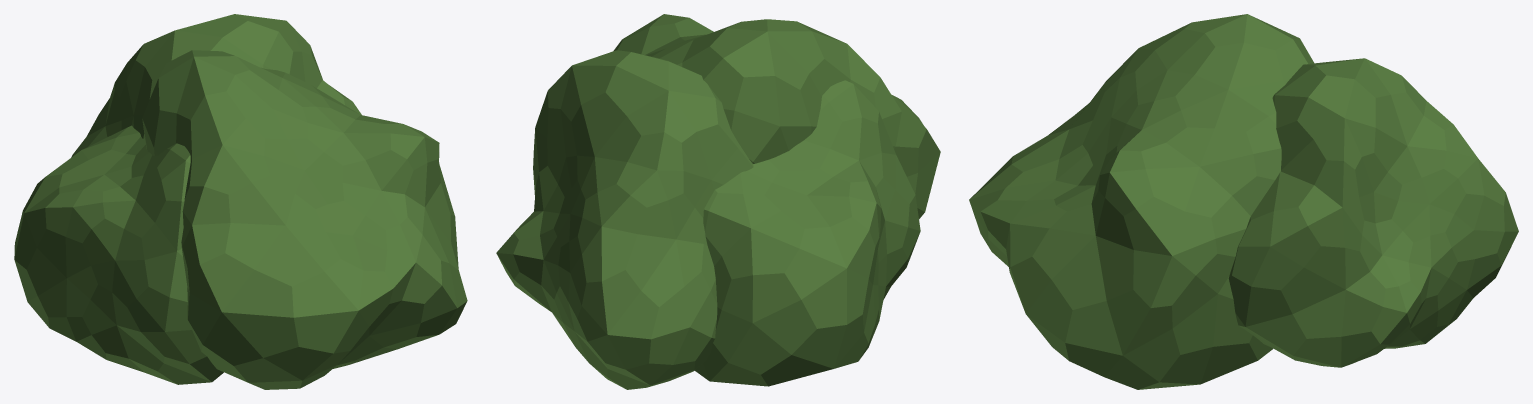
The model's file is bush6.fbx.
The picture shows the model from 3 angles, left to right: view 1: azimuth 30°, elevation 25°; view 2: azimuth 150°, elevation 25°; view 3: azimuth 270°, elevation 25°; orthographic projection. The views are drawn at different scales.
Parts seen in each view (by area): view 1: Icosphere.008, Icosphere.010, Icosphere.009; view 2: Icosphere.009, Icosphere.010, Icosphere.008; view 3: Icosphere.008, Icosphere.009.
Boxes of the visible parts, x1,y1,x2,y2 form: Icosphere.008: (142, 50, 467, 389); Icosphere.010: (14, 125, 223, 384); Icosphere.009: (71, 14, 361, 157); Icosphere.009: (496, 50, 753, 389); Icosphere.010: (695, 80, 920, 386); Icosphere.008: (613, 14, 940, 219); Icosphere.008: (969, 14, 1313, 389); Icosphere.009: (1228, 58, 1518, 367).
Size of the model in its own units: 130 by 105 by 174.
